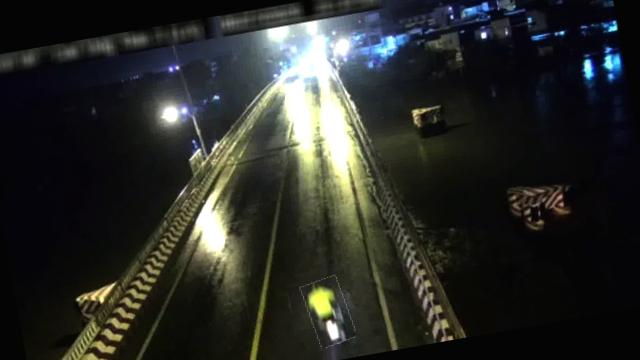Bike: (302, 274, 356, 348)
